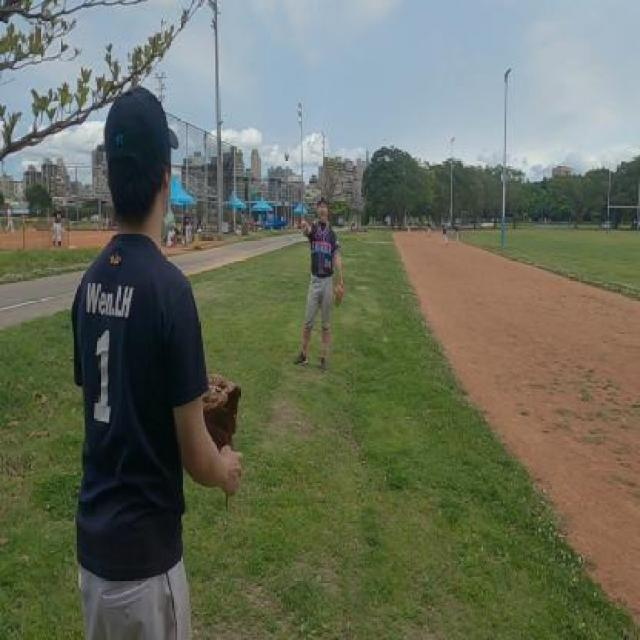baseball: (285, 152, 289, 160)
